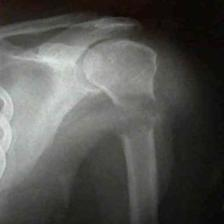pathological-fracture: (0, 5, 202, 224)
